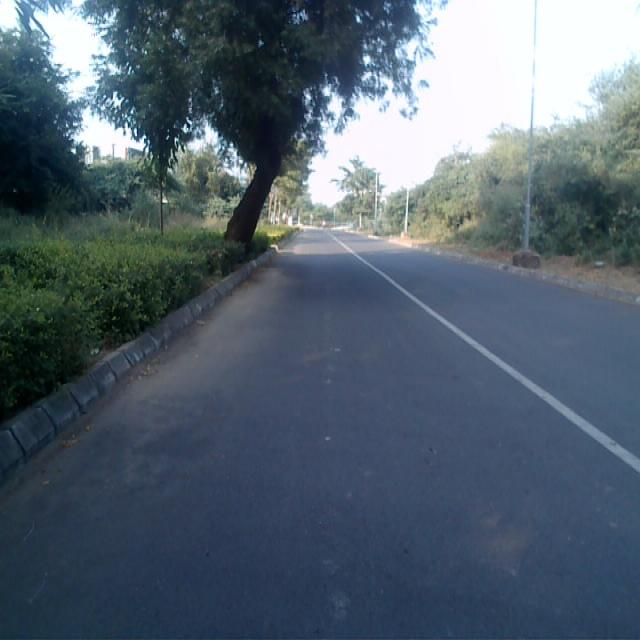lane: (1, 231, 640, 639)
